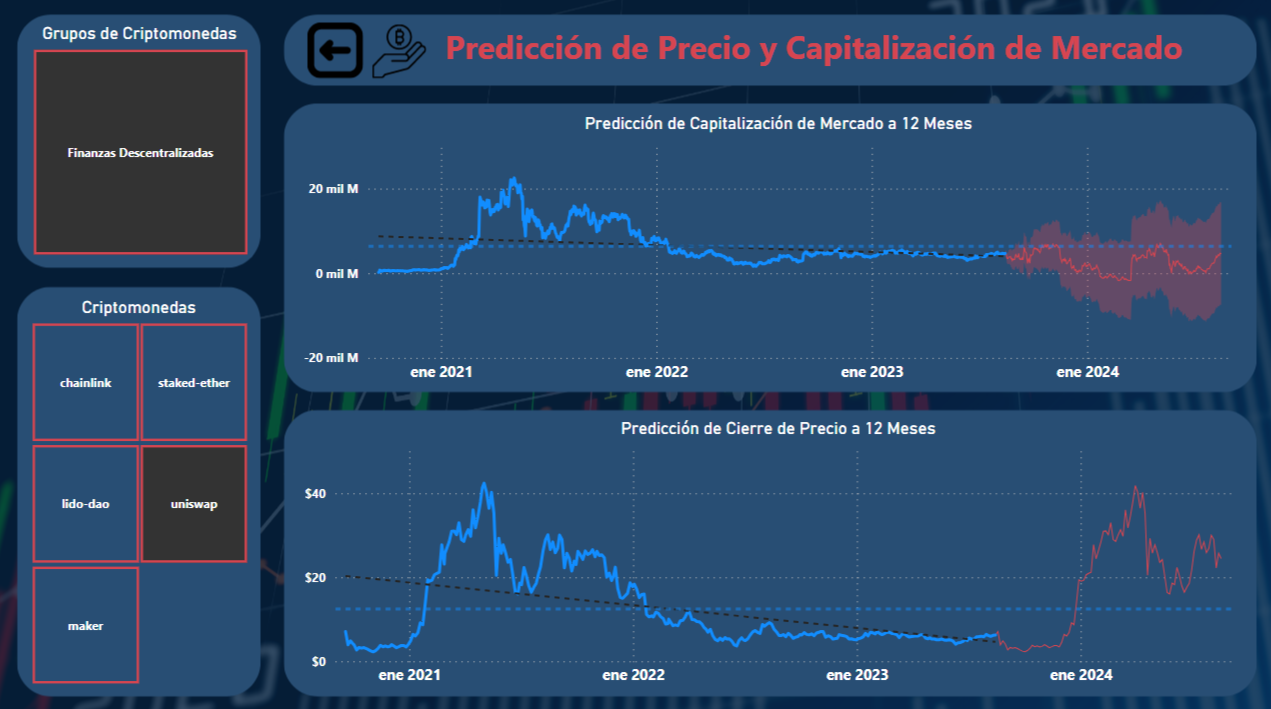

What the dashboard file says about the page in this screenshot:
{"tool":"powerbi","page":{"name":"Predicción 12 Meses","canvas":[1280,720],"ordinal":4},"visuals":[{"type":"lineChart","title":"Predicción de Capitalización de Mercado a 12 Meses","fields":{"Category":["combinado_completo.date"],"Y":["Avg(combinado_completo.market_caps)"]},"box":[300.6,115.6,959.4,278.8],"z":0},{"type":"lineChart","title":"Predicción de Cierre de Precio a 12 Meses","fields":{"Category":["combinado_completo.date"],"Y":["Avg(combinado_completo.close)"]},"box":[300.9,421.8,959.1,277.3],"z":1000},{"type":"textbox","box":[442.7,22.7,797.3,80.9],"z":2000},{"type":"slicer","title":"Grupos de Criptomonedas","fields":{"Values":["combinado_completo.Grupos de Criptomonedas"]},"box":[10,26.4,263.6,238.2],"z":3000},{"type":"slicer","title":"Criptomonedas","fields":{"Values":["combinado_completo.id"]},"box":[8.1,299.4,265,393.8],"z":4000},{"type":"actionButton","box":[308.3,22.9,58.6,48.4],"z":5000}]}

Visuals, with their boxes in screenshot pixels (x1, y1, x2, y2), scaled from the page's 1280x720 canvas onto the 1271x709 screenshot:
"Predicción de Capitalización de Mercado a 12 Meses" lineChart: 298:114:1251:388
"Predicción de Cierre de Precio a 12 Meses" lineChart: 299:415:1251:688
textbox: 440:22:1231:102
"Grupos de Criptomonedas" slicer: 10:26:272:261
"Criptomonedas" slicer: 8:295:271:683
actionButton: 306:23:364:70
